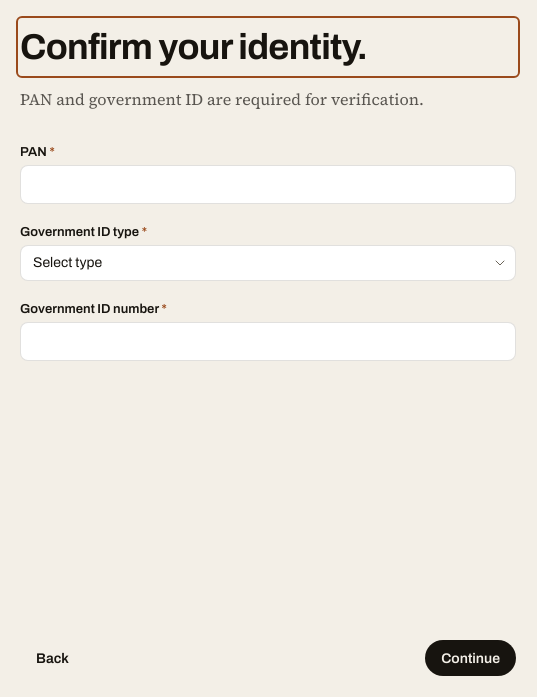
Test: IdentityStep › validates PAN format
Type "bad" into the field labelled "PAN *" at point(268, 184), box [20,165,516,204]
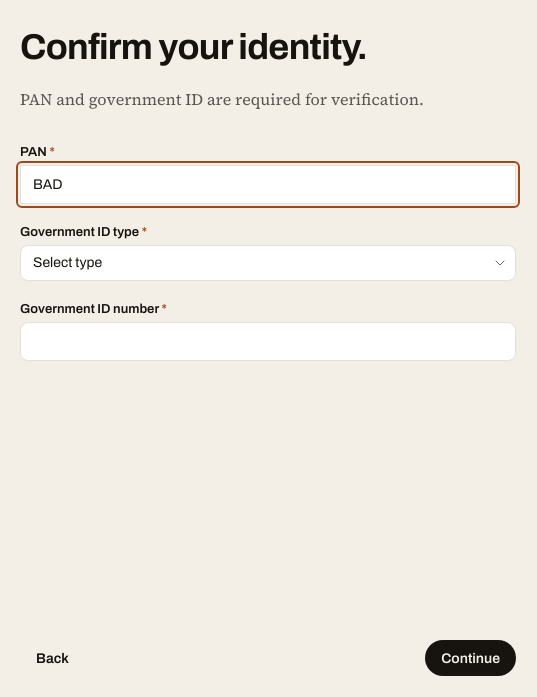
Select "Aadhaar" in the dropdown labelled "Government ID type *" at point(268, 263), box [20,245,516,281]
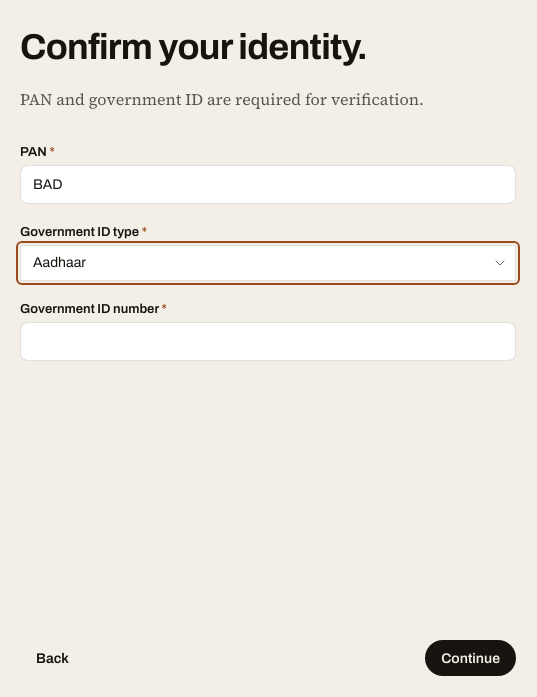
Type "123456789012" into the field labelled "Government ID number *" at point(268, 341), box [20,322,516,361]
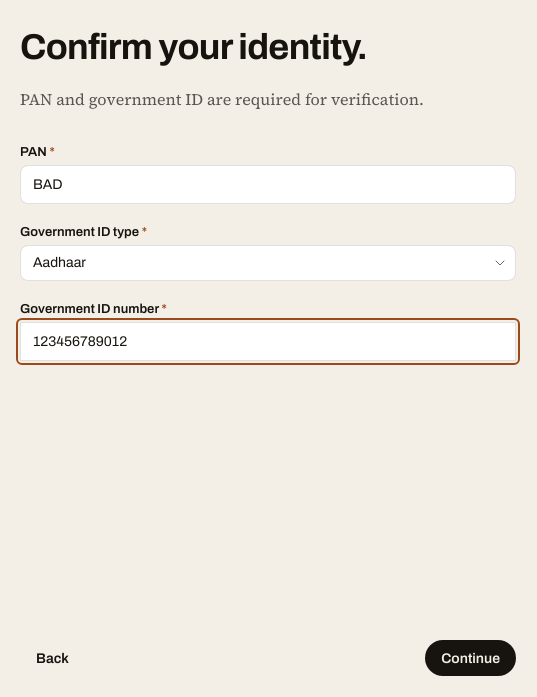
Click the button "Continue" at point(471, 658), box [425,640,516,676]
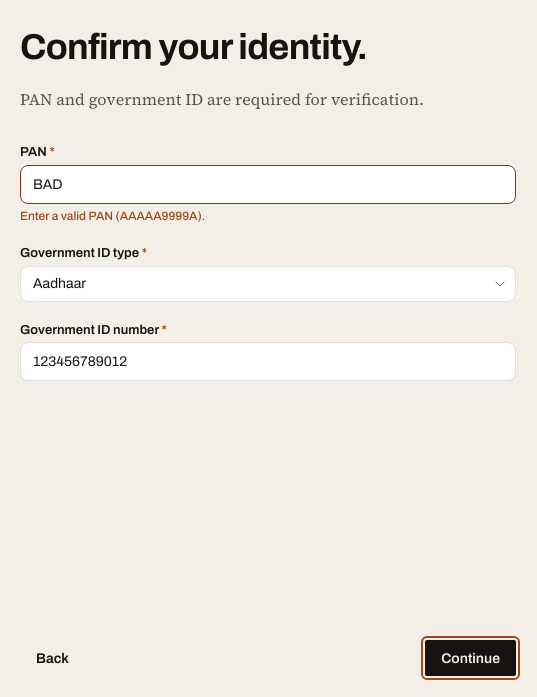
expect the text "Enter a valid PAN (AAAAA9999A)." is shown: met, box [20,209,205,223]
